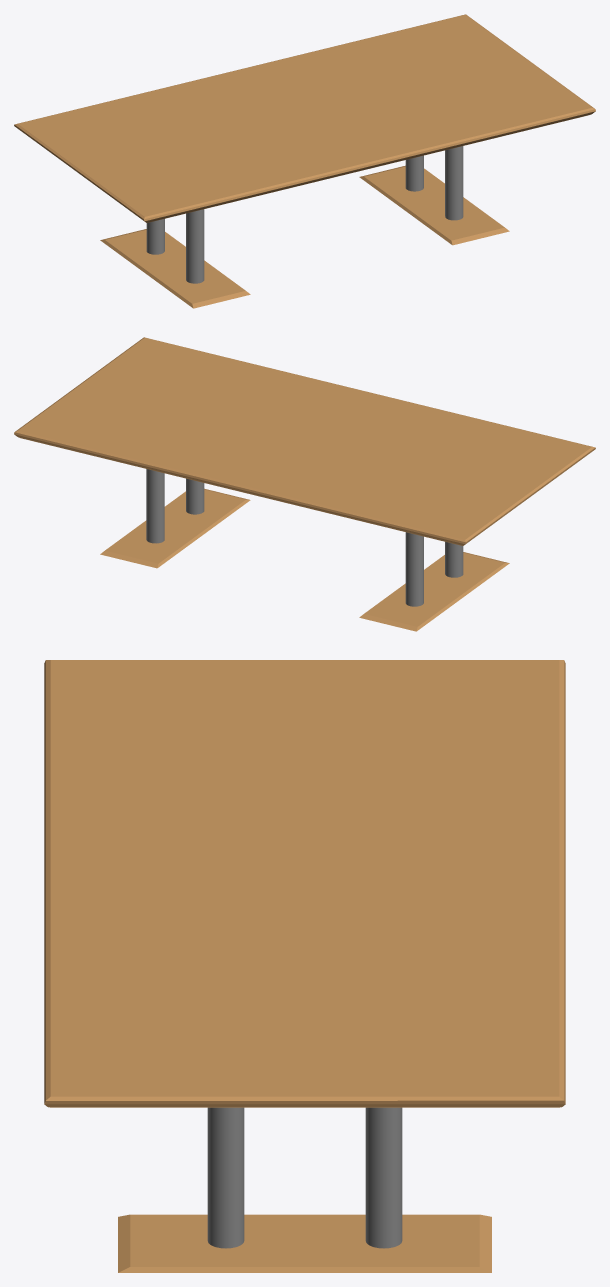
Rendered from ConfrenceTable.fbx.
3 views of the same model, one above another, from view 1: azimuth 30°, elevation 25°; view 2: azimuth 150°, elevation 25°; view 3: azimuth 270°, elevation 25° (orthographic). The views are drawn at different scales.
Parts seen in each view (by area): view 1: Surface, Base_1, Base_2, Leg_1_2, Leg_2_2, Leg_1_1, Leg_2_1; view 2: Surface, Base_2, Base_1, Leg_1_1, Leg_2_1, Leg_2_2, Leg_1_2; view 3: Surface, Base_2, Leg_2_1, Leg_2_2.
Part boxes in pixels (x1,y1,x2,y2): Surface: [14, 14, 595, 222]; Base_1: [100, 229, 250, 308]; Base_2: [359, 165, 509, 245]; Leg_1_2: [186, 209, 204, 283]; Leg_2_2: [445, 146, 463, 220]; Leg_1_1: [146, 219, 164, 254]; Leg_2_1: [405, 155, 423, 191]; Surface: [14, 337, 595, 545]; Base_2: [100, 488, 250, 568]; Base_1: [359, 552, 509, 631]; Leg_1_1: [405, 532, 423, 606]; Leg_2_1: [146, 469, 164, 543]; Leg_2_2: [186, 478, 204, 514]; Leg_1_2: [445, 542, 463, 577]; Surface: [44, 660, 565, 1107]; Base_2: [118, 1214, 491, 1272]; Leg_2_1: [365, 1107, 402, 1248]; Leg_2_2: [207, 1107, 244, 1248].
Size of the model in its own units: 3.99 by 1.01 by 2.
